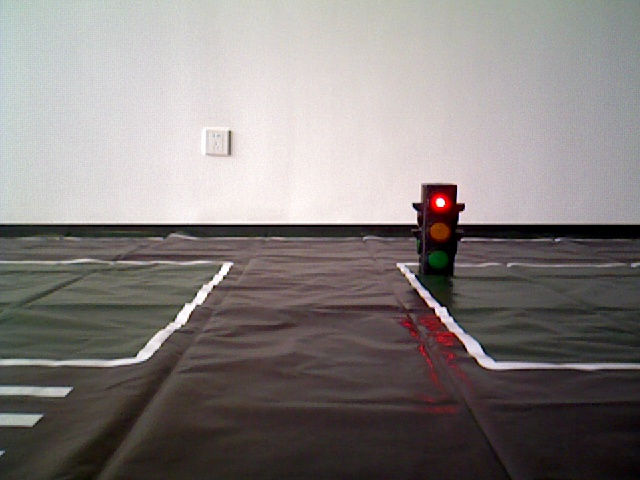red: (421, 184, 453, 270)
